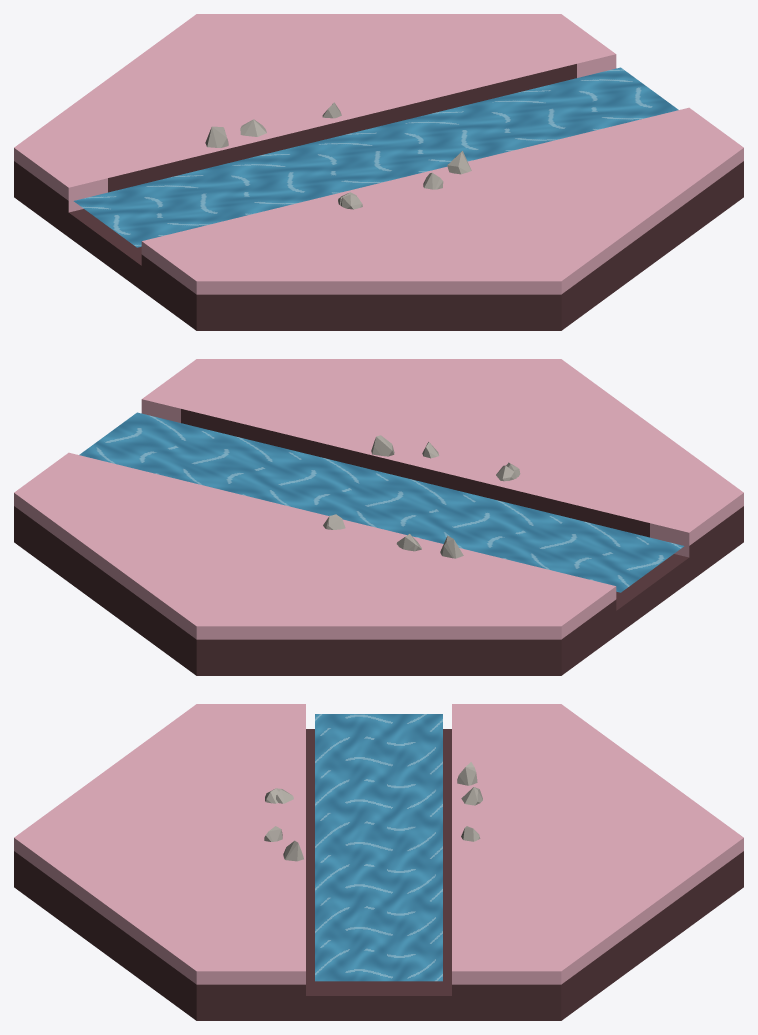
File: tile_river_straight.glb
3 views of the same model, one above another, from view 1: azimuth 30°, elevation 25°; view 2: azimuth 150°, elevation 25°; view 3: azimuth 270°, elevation 25° (orthographic).
Parts seen in each view (by area): view 1: ground, water, bank_stones; view 2: ground, water, bank_stones; view 3: ground, water, bank_stones.
Part boxes in pixels (x1=…): ground: x1=14, y1=14, x2=743, y2=330; water: x1=73, y1=67, x2=678, y2=247; bank_stones: x1=205, y1=102, x2=471, y2=209; ground: x1=14, y1=359, x2=743, y2=675; water: x1=79, y1=412, x2=684, y2=592; bank_stones: x1=323, y1=435, x2=520, y2=558; ground: x1=14, y1=704, x2=743, y2=1020; water: x1=315, y1=714, x2=442, y2=981; bank_stones: x1=264, y1=762, x2=482, y2=861.
Bounding box in the file's own units: 1.73 × 0.2013 × 2.
Materials: 4 (1 with a texture image).
